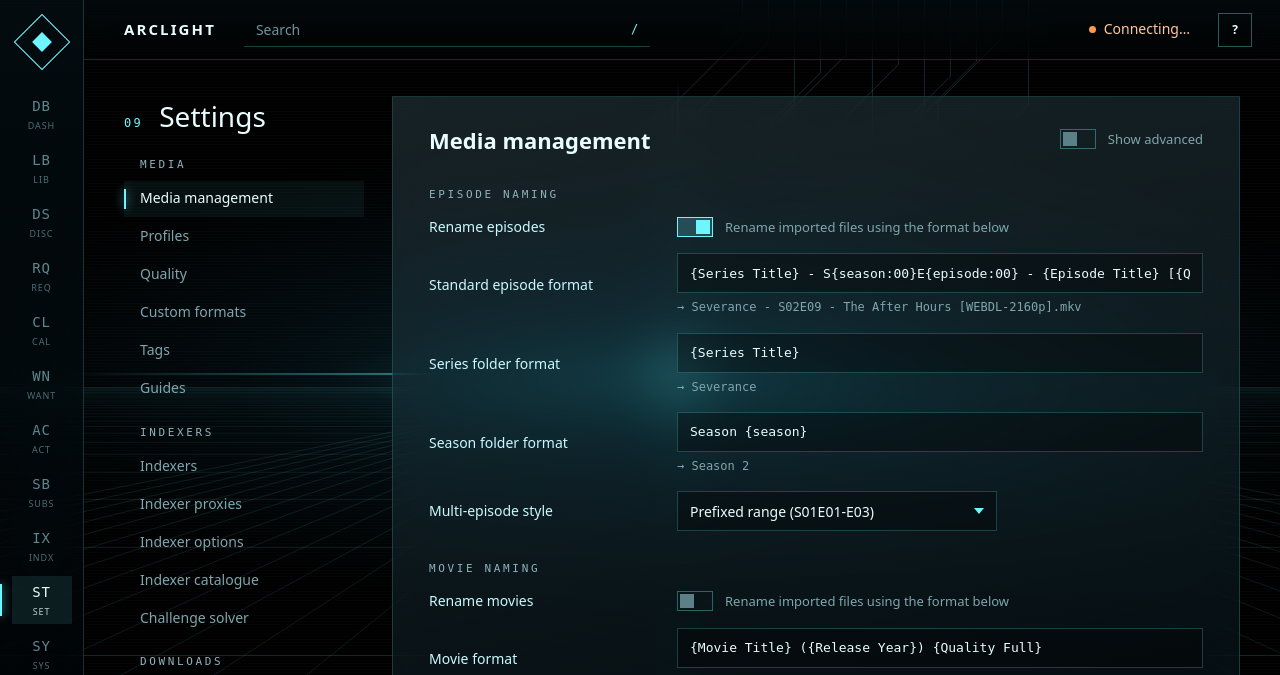
Test: Settings -> Media management › hides advanced rows until Show advanced is on
Expected: the field labelled "Standard episode format" is shown, [677, 253, 1203, 293]
Click the switch labelled "Show advanced" at x=1131, y=139, box [1060, 129, 1203, 149]
(page scrolled)
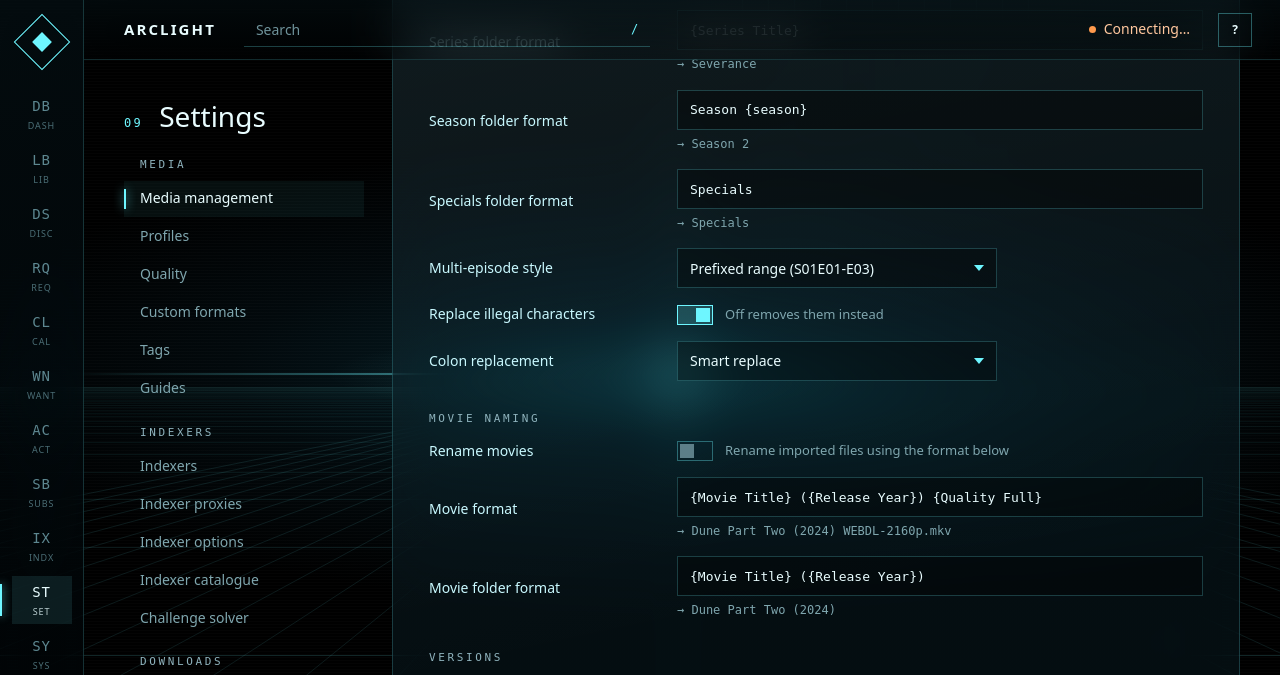
Now the dropdown labelled "Colon replacement" is shown, box [677, 341, 997, 381]
